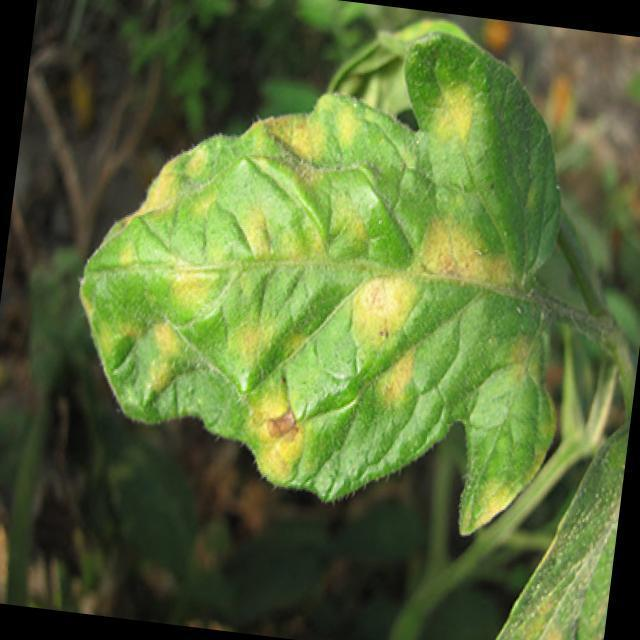Mosaic Virus: (48, 11, 600, 564)
